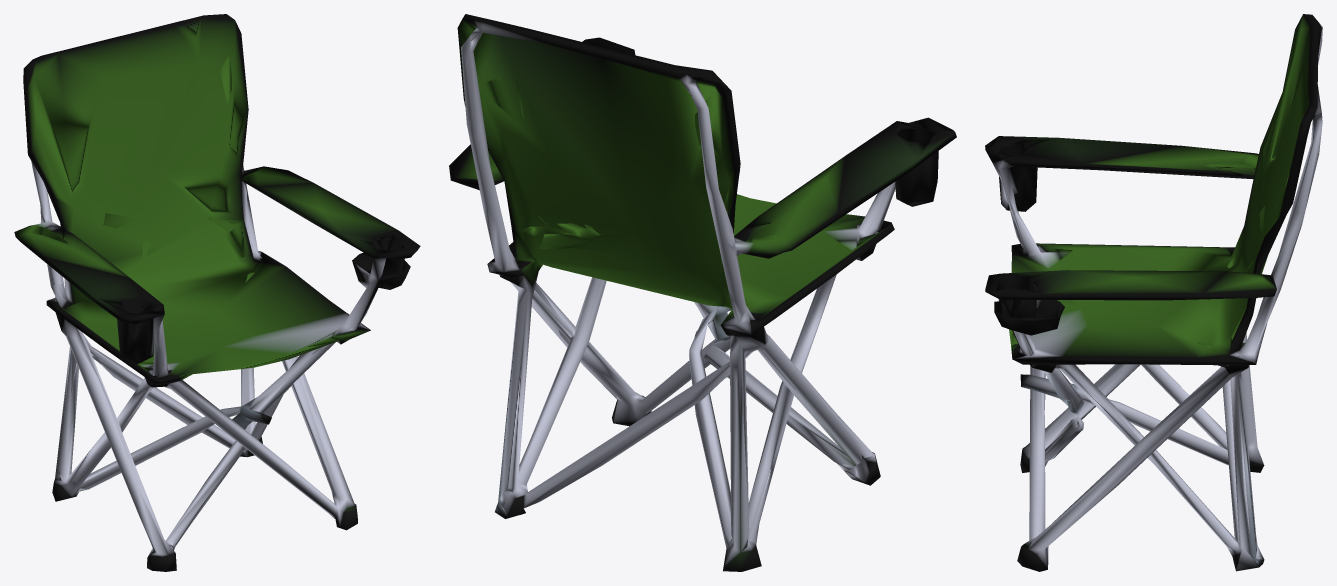
File: gen3d-camping-chair-lod1.glb
3 renders of one model, left to right at view 1: azimuth 30°, elevation 25°; view 2: azimuth 150°, elevation 25°; view 3: azimuth 270°, elevation 25°, orthographic. The views are drawn at different scales.
Parts seen in each view (by area): view 1: part_0; view 2: part_0; view 3: part_0.
Part boxes in pixels (<box>): part_0: <box>14,14,420,571</box>; part_0: <box>449,14,956,571</box>; part_0: <box>985,14,1322,571</box>.
Bounding box in the file's own units: 0.746 × 0.9973 × 0.6733.
